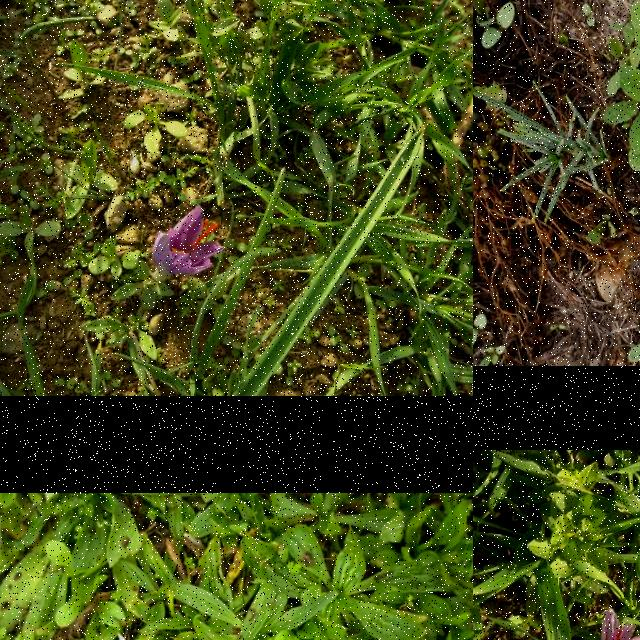flower: (152, 206, 224, 274), (578, 610, 640, 640)
